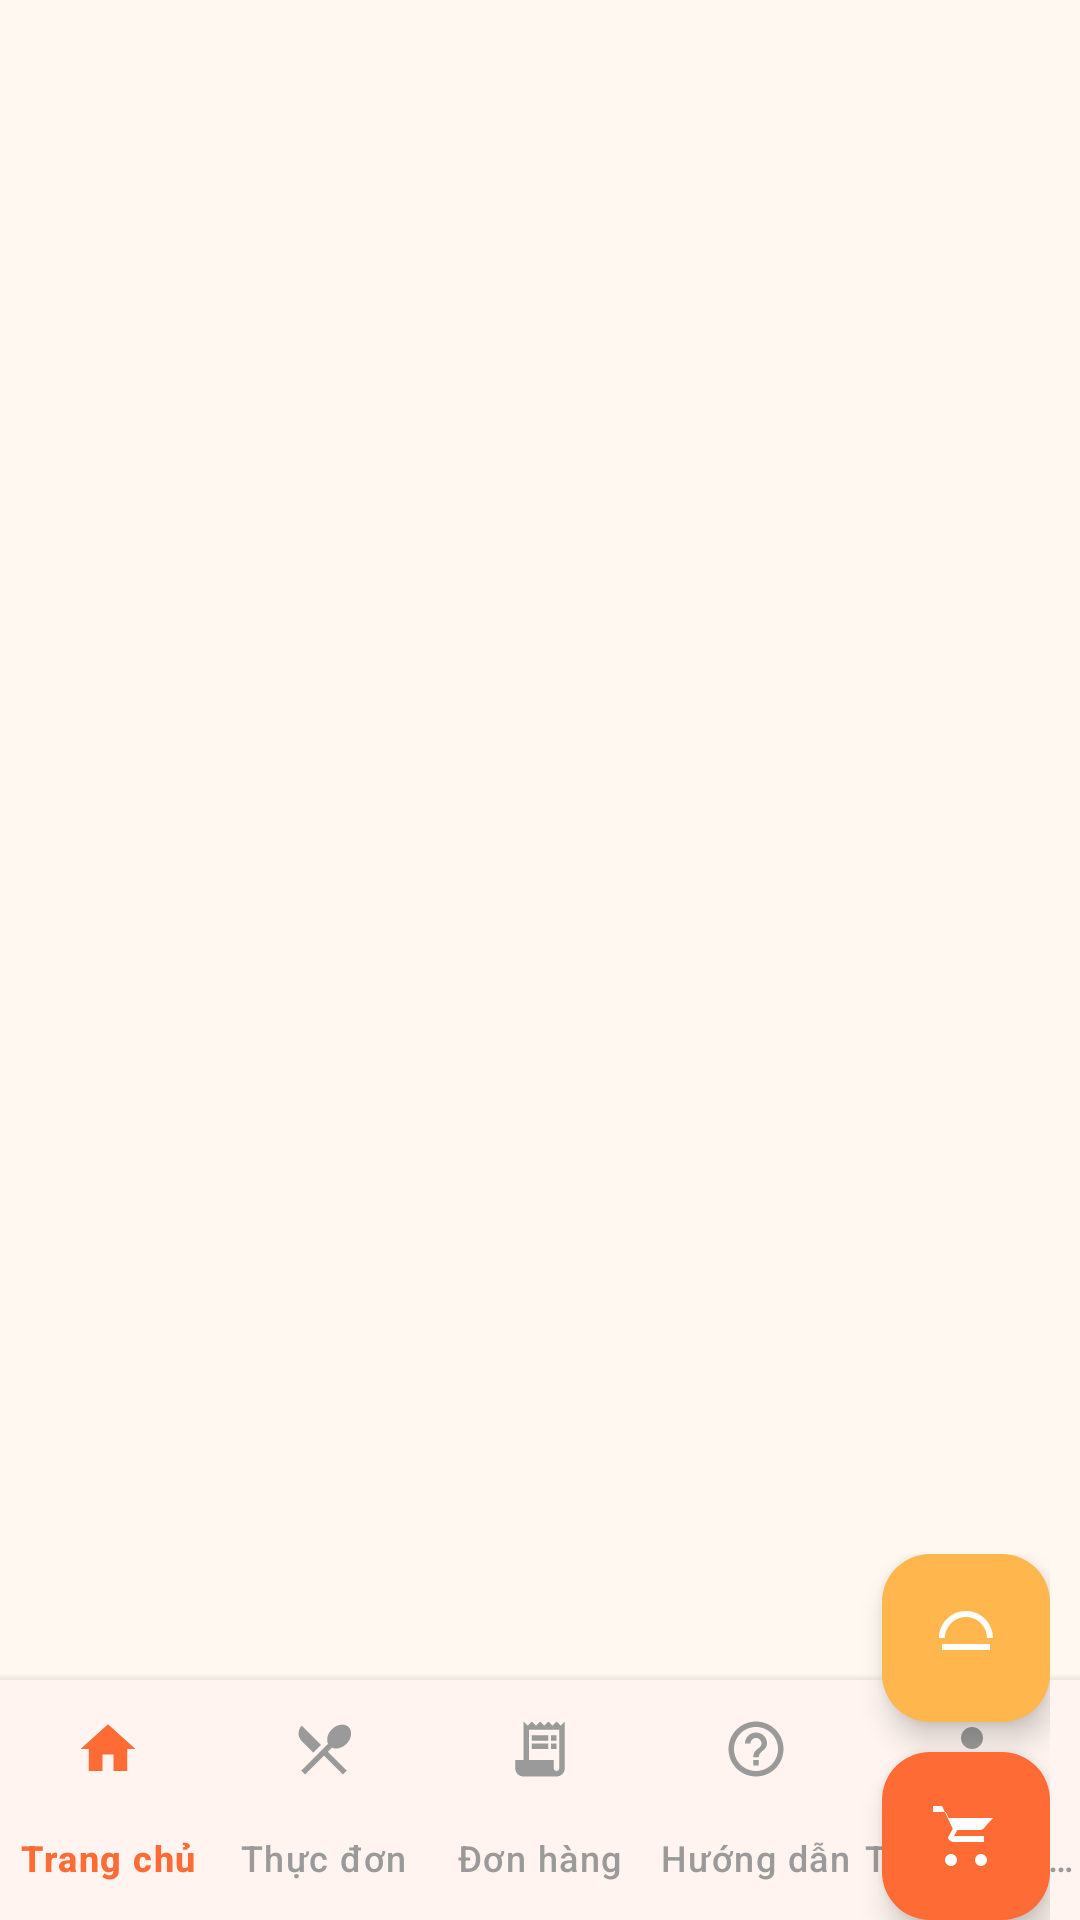

Where icons sit on this 1080px x 1920px app screen, as box(x1, y1, x2, y2):
Mở giỏ hàng: box(882, 1752, 1050, 1920)
Tạo món tùy chỉnh: box(882, 1554, 1050, 1722)
